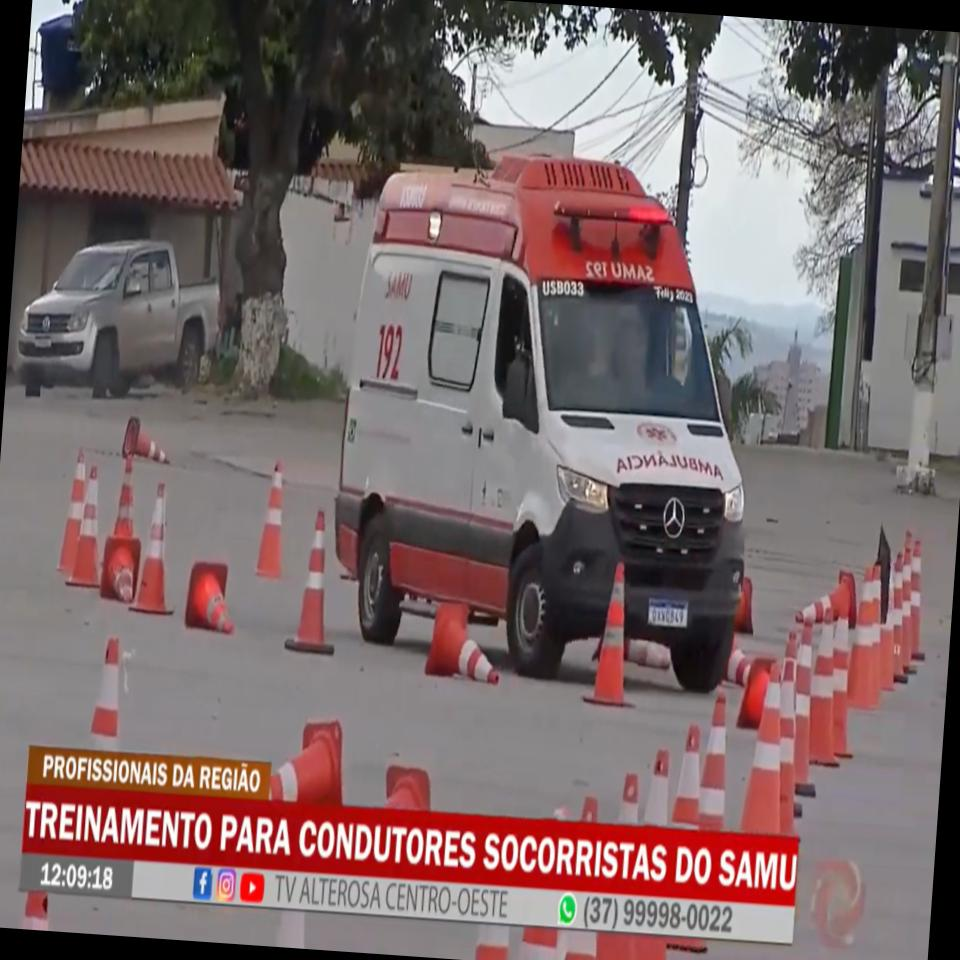bombeiro: (325, 139, 778, 700)
